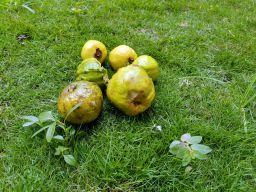guava: (106, 64, 157, 115), (58, 79, 105, 124), (77, 59, 110, 85), (131, 54, 162, 81), (80, 39, 108, 65), (109, 45, 138, 70)
